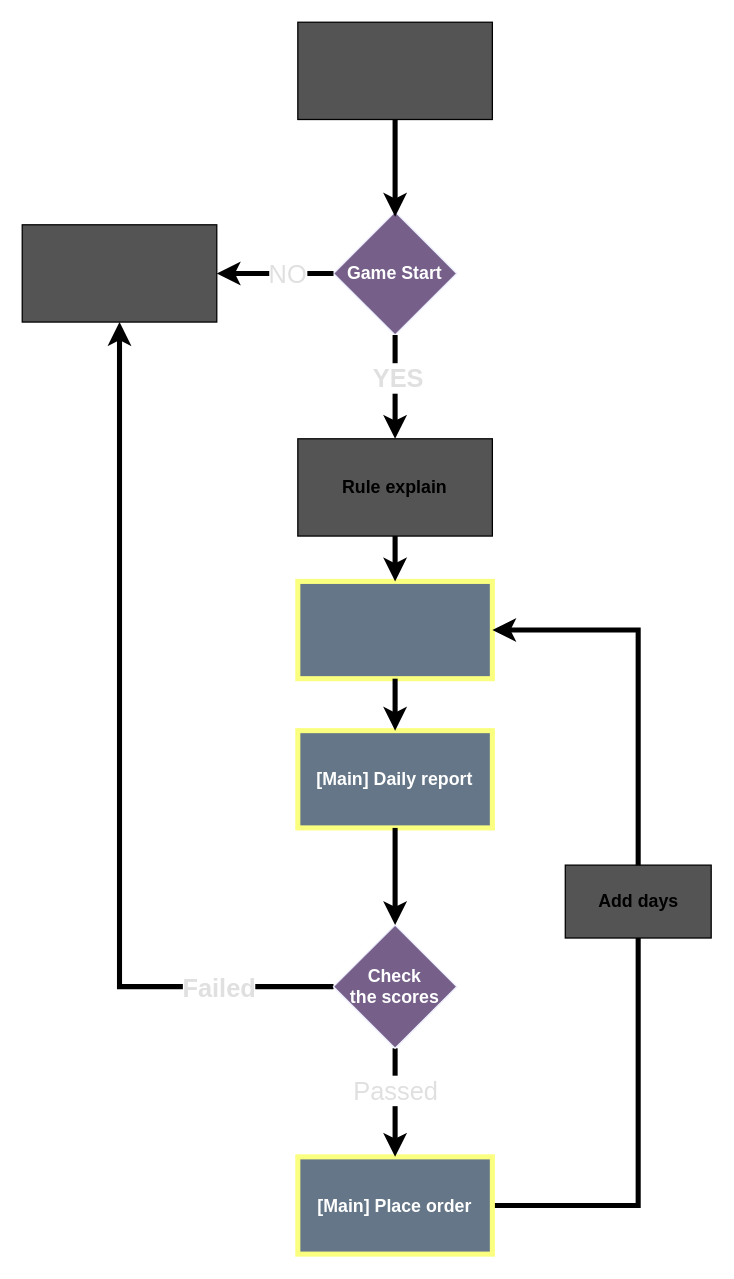
Image size: 734x1279. Some labels were removed from this diagram. The centre of each missing label's shape, as x and y in pixels:
"[Main] Round" belongs at (394,629).
"End" belongs at (119,273).
"Start" belongs at (394,70).
